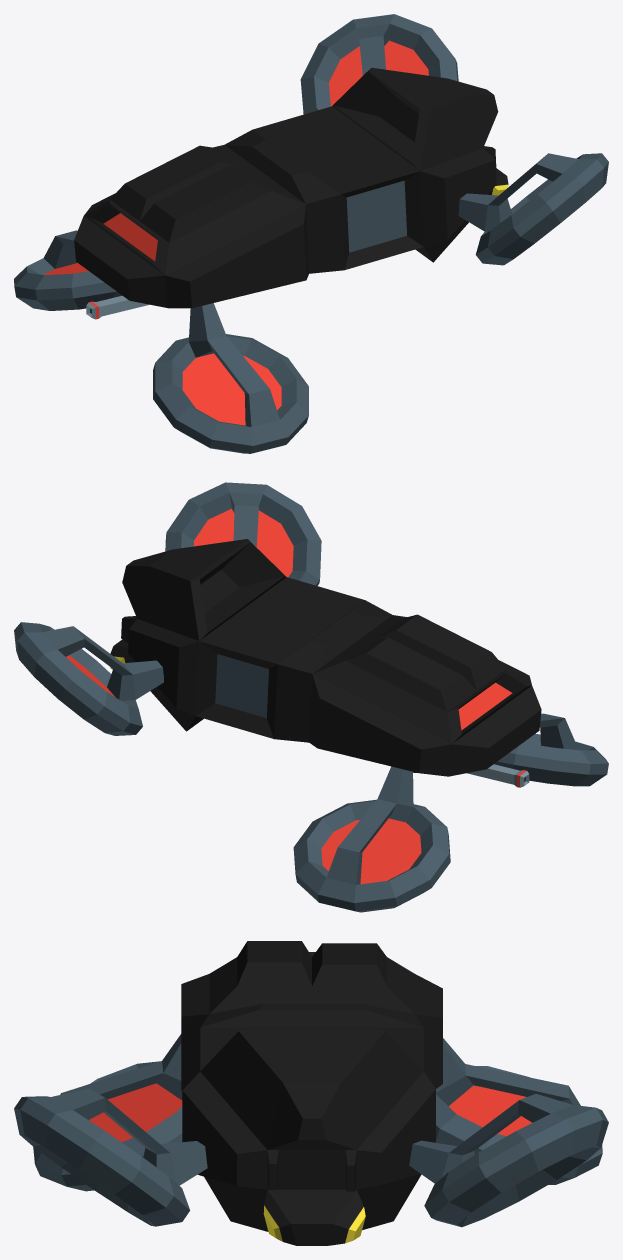
Rendered from StingerDrone.glb.
The picture shows the model from 3 angles, top to bottom: view 1: azimuth 30°, elevation 25°; view 2: azimuth 150°, elevation 25°; view 3: azimuth 270°, elevation 25°; orthographic projection. The views are drawn at different scales.
Visible parts, largest first — view 1: group964036273, group1927891841, group900292859, group1173527014, group1129617186, group1977848737; view 2: group964036273, group1129617186, group1173527014, group900292859, group1927891841, group1977848737; view 3: group964036273, group1173527014, group900292859, group1129617186, group1927891841.
Part boxes in pixels (x1,y1,x2,y2): group964036273: [74, 67, 508, 308]; group1927891841: [153, 303, 308, 453]; group900292859: [458, 153, 608, 265]; group1173527014: [300, 14, 458, 114]; group1129617186: [14, 230, 121, 310]; group1977848737: [86, 295, 149, 319]; group964036273: [110, 539, 541, 776]; group1129617186: [293, 766, 450, 912]; group1173527014: [14, 622, 163, 735]; group900292859: [165, 482, 321, 585]; group1927891841: [494, 713, 608, 786]; group1977848737: [413, 764, 529, 787]; group964036273: [181, 941, 442, 1245]; group1173527014: [409, 1094, 608, 1227]; group900292859: [14, 1088, 207, 1226]; group1129617186: [436, 1038, 602, 1184]; group1927891841: [33, 1034, 182, 1191].
Bounding box in the file's own units: 1.36 × 0.6883 × 1.27.
